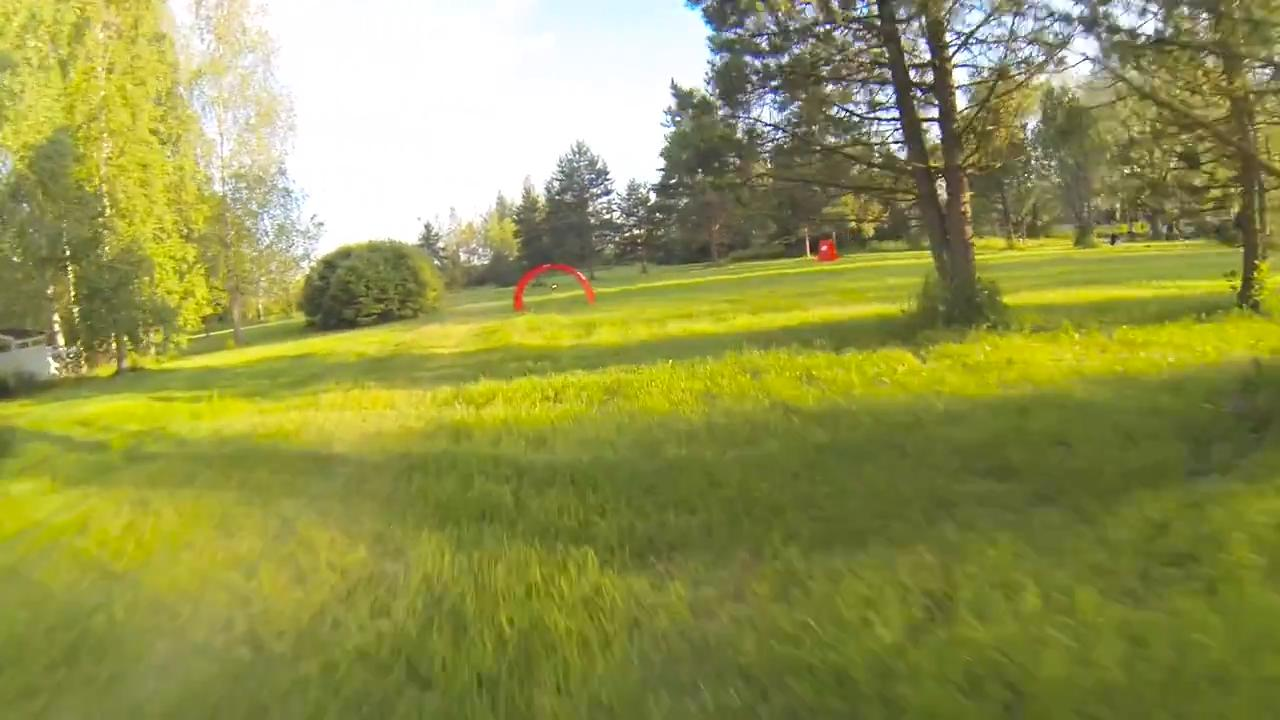gate: (510, 260, 598, 314)
